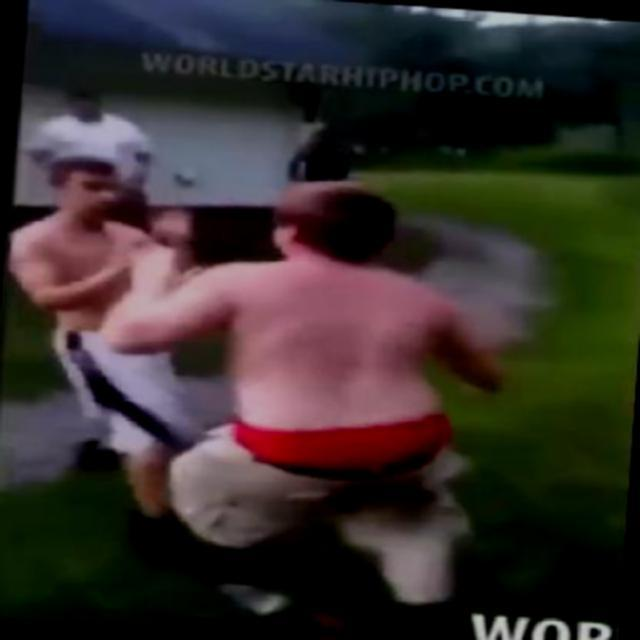fight: (0, 149, 512, 592)
